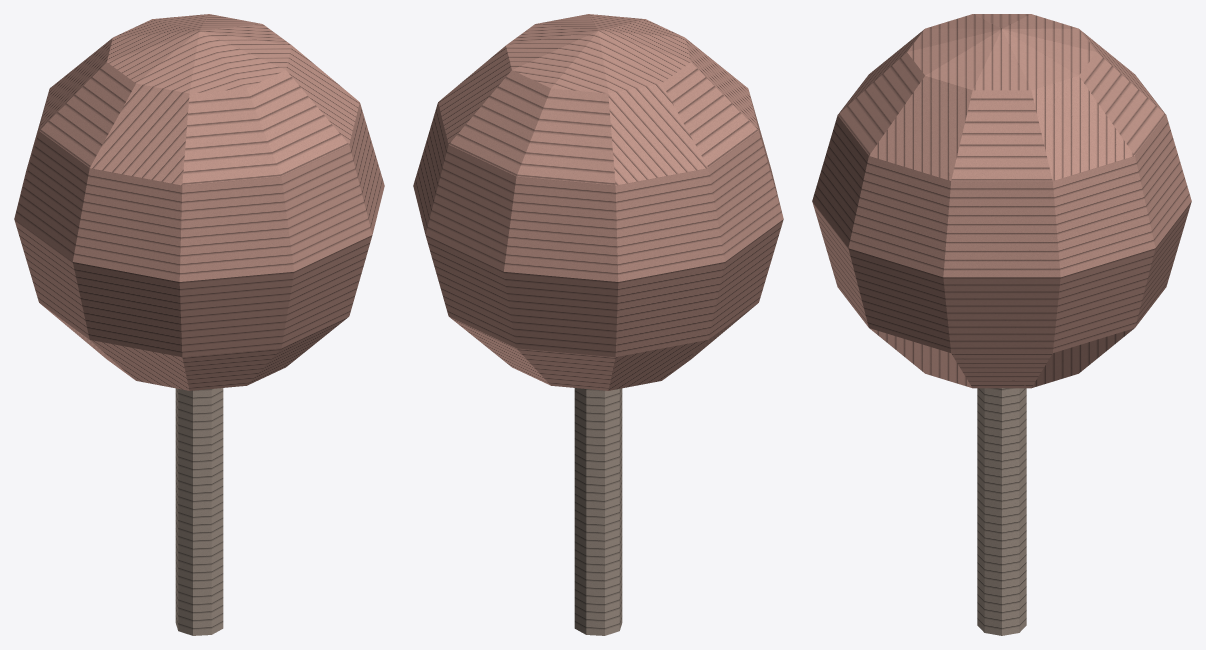
The model's file is tree_eastern_cottonwood.glb.
3 views of the same model, side by side, from view 1: azimuth 30°, elevation 25°; view 2: azimuth 150°, elevation 25°; view 3: azimuth 270°, elevation 25° (orthographic).
Parts seen in each view (by area): view 1: tree_eastern_cottonwood-col; view 2: tree_eastern_cottonwood-col; view 3: tree_eastern_cottonwood-col.
Boxes of the visible parts, x1,y1,x2,y2 form: tree_eastern_cottonwood-col: (14, 14, 384, 635); tree_eastern_cottonwood-col: (413, 14, 783, 635); tree_eastern_cottonwood-col: (812, 14, 1191, 635).
Bounding box in the file's own units: 5.14 × 9.36 × 5.4.
2 materials, 2 textured.
